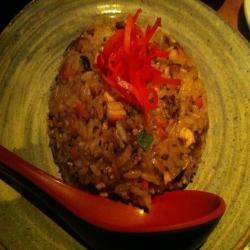rice: (46, 25, 214, 208)
